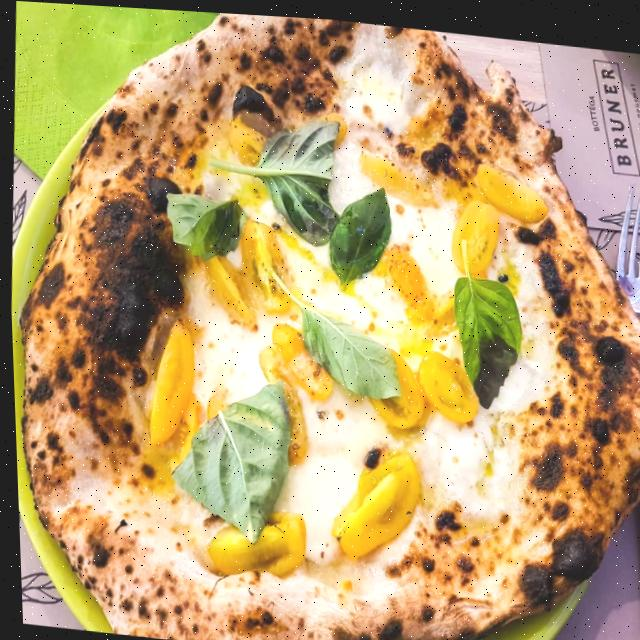basil: (164, 371, 294, 546), (204, 104, 346, 248), (262, 264, 404, 400), (444, 231, 530, 410), (324, 174, 397, 291), (159, 188, 248, 264)
pizza: (0, 0, 640, 640)
tomatoes: (320, 439, 426, 566), (199, 500, 311, 583), (249, 338, 311, 470), (142, 316, 198, 452), (352, 337, 427, 430), (472, 152, 559, 228), (410, 342, 482, 425), (353, 144, 442, 208), (235, 210, 290, 312), (268, 319, 336, 395), (377, 239, 435, 326), (198, 247, 258, 331), (445, 192, 501, 274), (226, 116, 272, 170)
